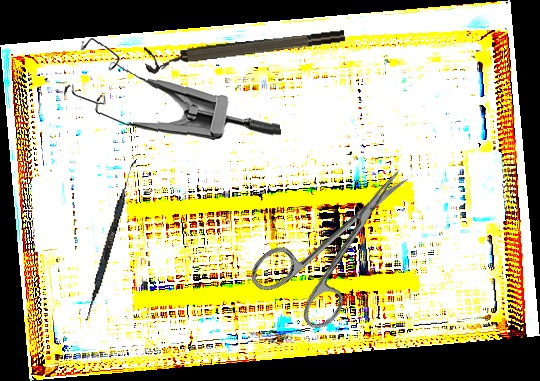Fixation Ring: (143, 26, 347, 75)
Iris Scissors: (244, 142, 441, 342)
Spatula Surgical: (84, 156, 137, 323)
Speculum: (62, 31, 281, 145)
